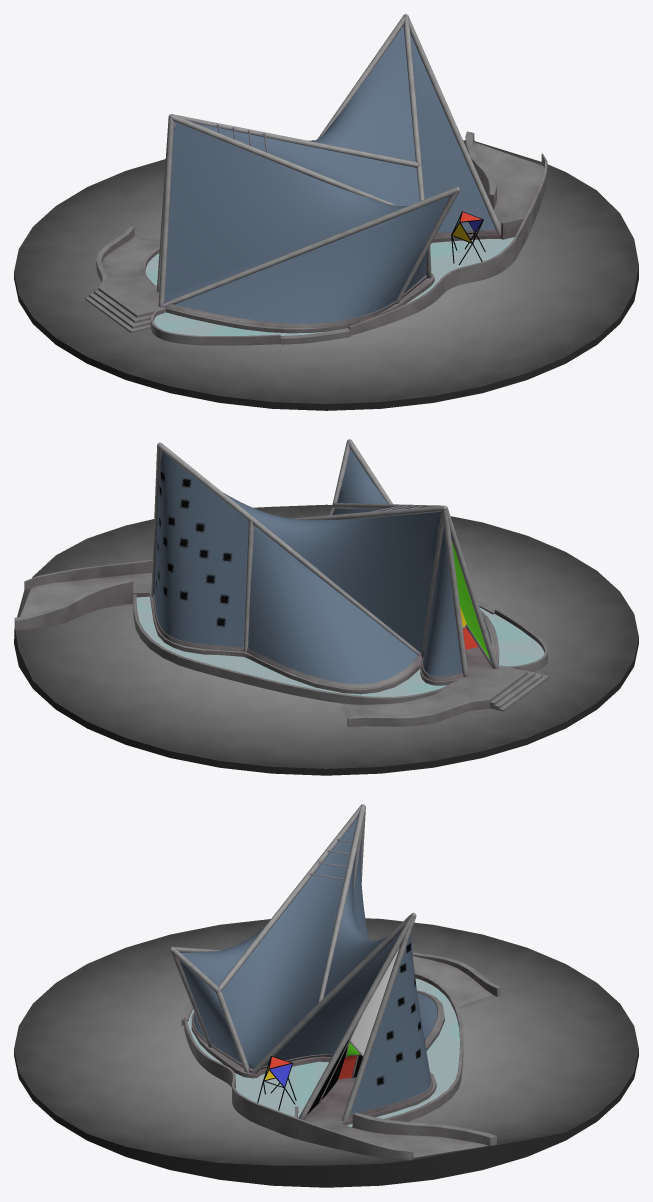
File: Philips Pavilion.glb
3 views of the same model, one above another, from view 1: azimuth 30°, elevation 25°; view 2: azimuth 150°, elevation 25°; view 3: azimuth 270°, elevation 25° (orthographic).
Visible parts, largest first — view 1: Philips Pailion; view 2: Philips Pailion; view 3: Philips Pailion.
Part boxes in pixels (x1,y1,x2,y2): Philips Pailion: [14, 14, 638, 410]; Philips Pailion: [14, 439, 638, 775]; Philips Pailion: [14, 804, 638, 1187].
Size of the model in its own units: 62.56 by 22.38 by 62.56.
1 material, 1 textured.
